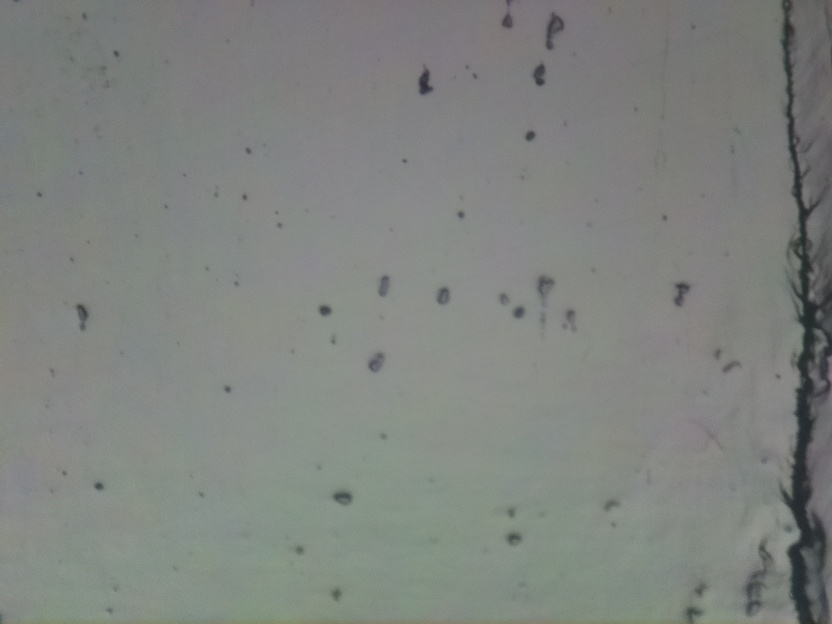crack: (780, 0, 823, 624)
